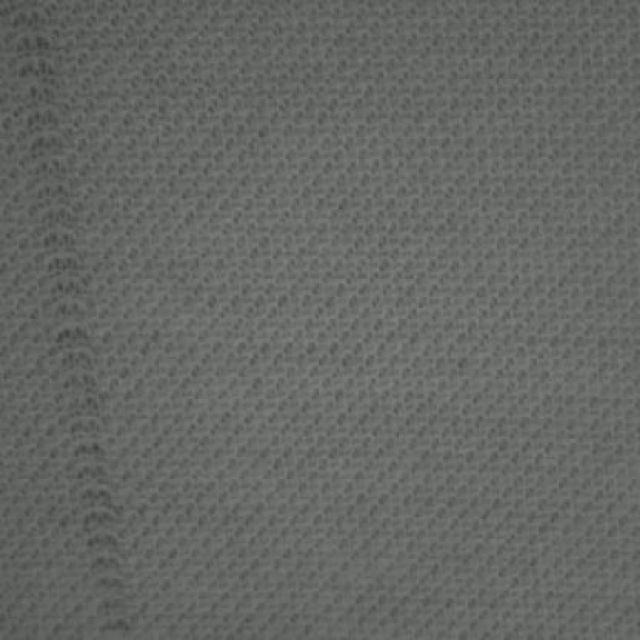Line: (9, 4, 135, 637)
